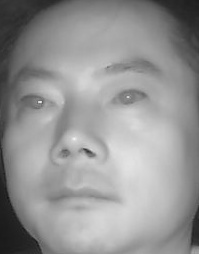eye: (108, 85, 148, 112), (18, 91, 55, 116)
mouth: (46, 171, 120, 217)
